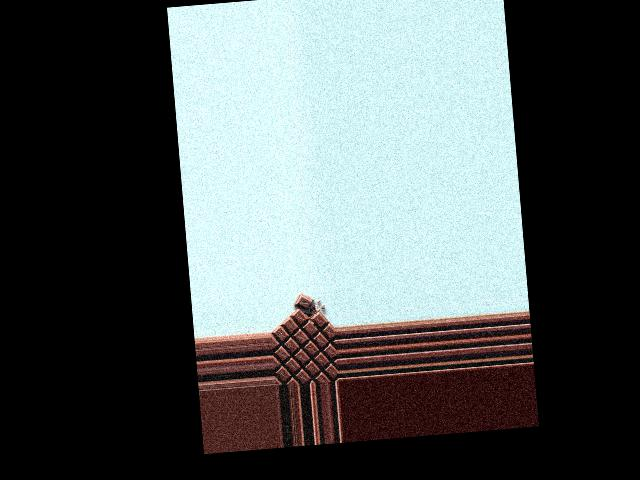chocolate: (271, 300, 337, 386)
